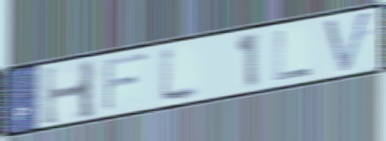1: (234, 30, 261, 91)
F: (101, 49, 151, 114)
H: (41, 57, 99, 128)
L: (157, 41, 205, 107), (272, 28, 313, 83)
V: (321, 8, 375, 76)
